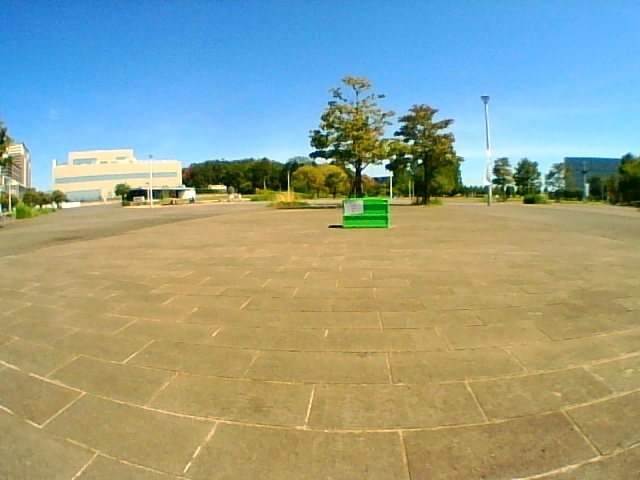green_box: (343, 199, 388, 227)
tag: (345, 200, 362, 214)
